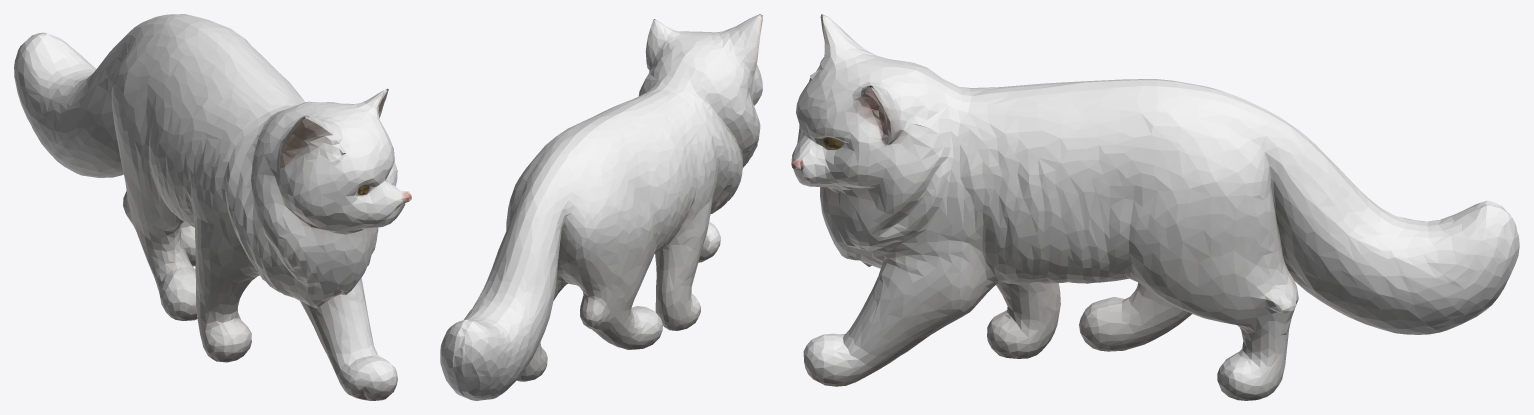
3 renders of one model, left to right at view 1: azimuth 30°, elevation 25°; view 2: azimuth 150°, elevation 25°; view 3: azimuth 270°, elevation 25°, orthographic. The views are drawn at different scales.
Parts seen in each view (by area): view 1: geometry_0; view 2: geometry_0; view 3: geometry_0.
Part boxes in pixels (x1,y1,x2,y2): geometry_0: (14,14,411,400); geometry_0: (440,14,762,400); geometry_0: (791,14,1519,400).
Bounding box in the file's own units: 0.245 × 0.5111 × 0.9981.
Materials: 1 (1 with a texture image).
